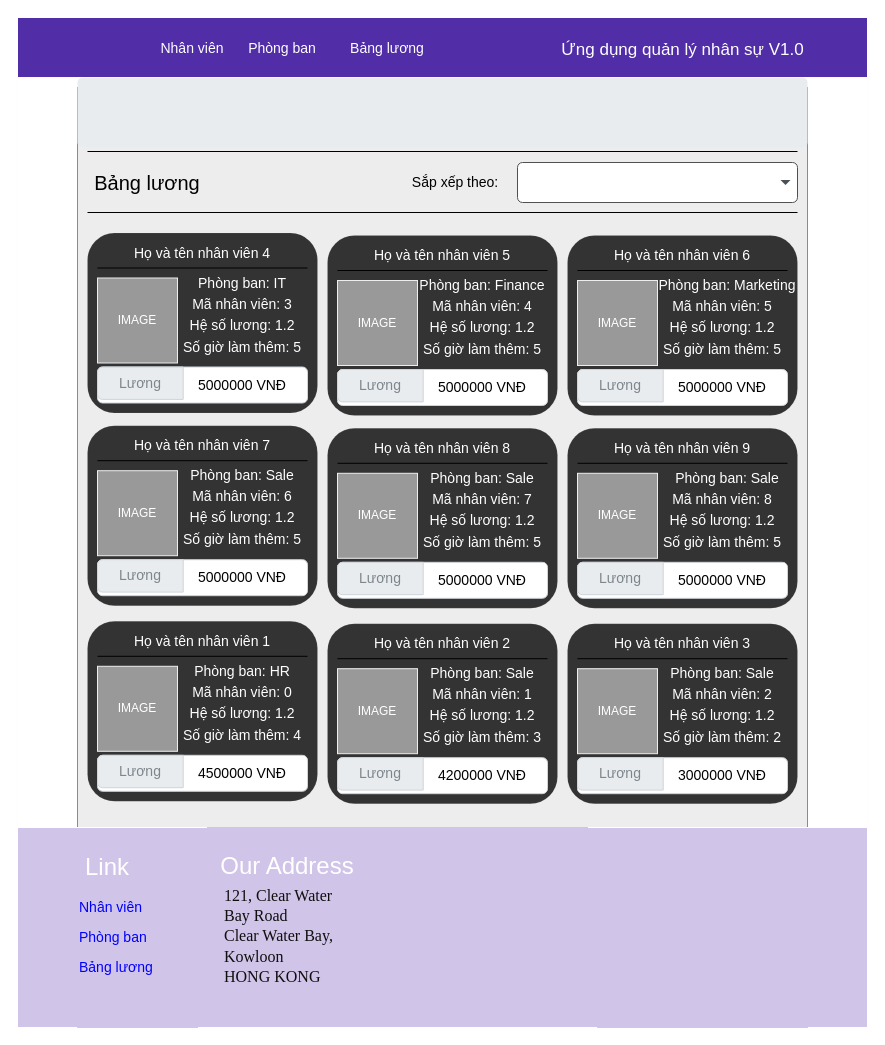
This 885x1045 diagram has some shape labels left out. Here are the shapes that lost their labels. From the top down, the box of each, then its label:
(16, 16, 868, 78): LOGO
(77, 77, 807, 147): Nhân viên / Bảng lương
(516, 162, 798, 202): Mức lương giảm dần
(596, 828, 808, 1028): Social - Icon
